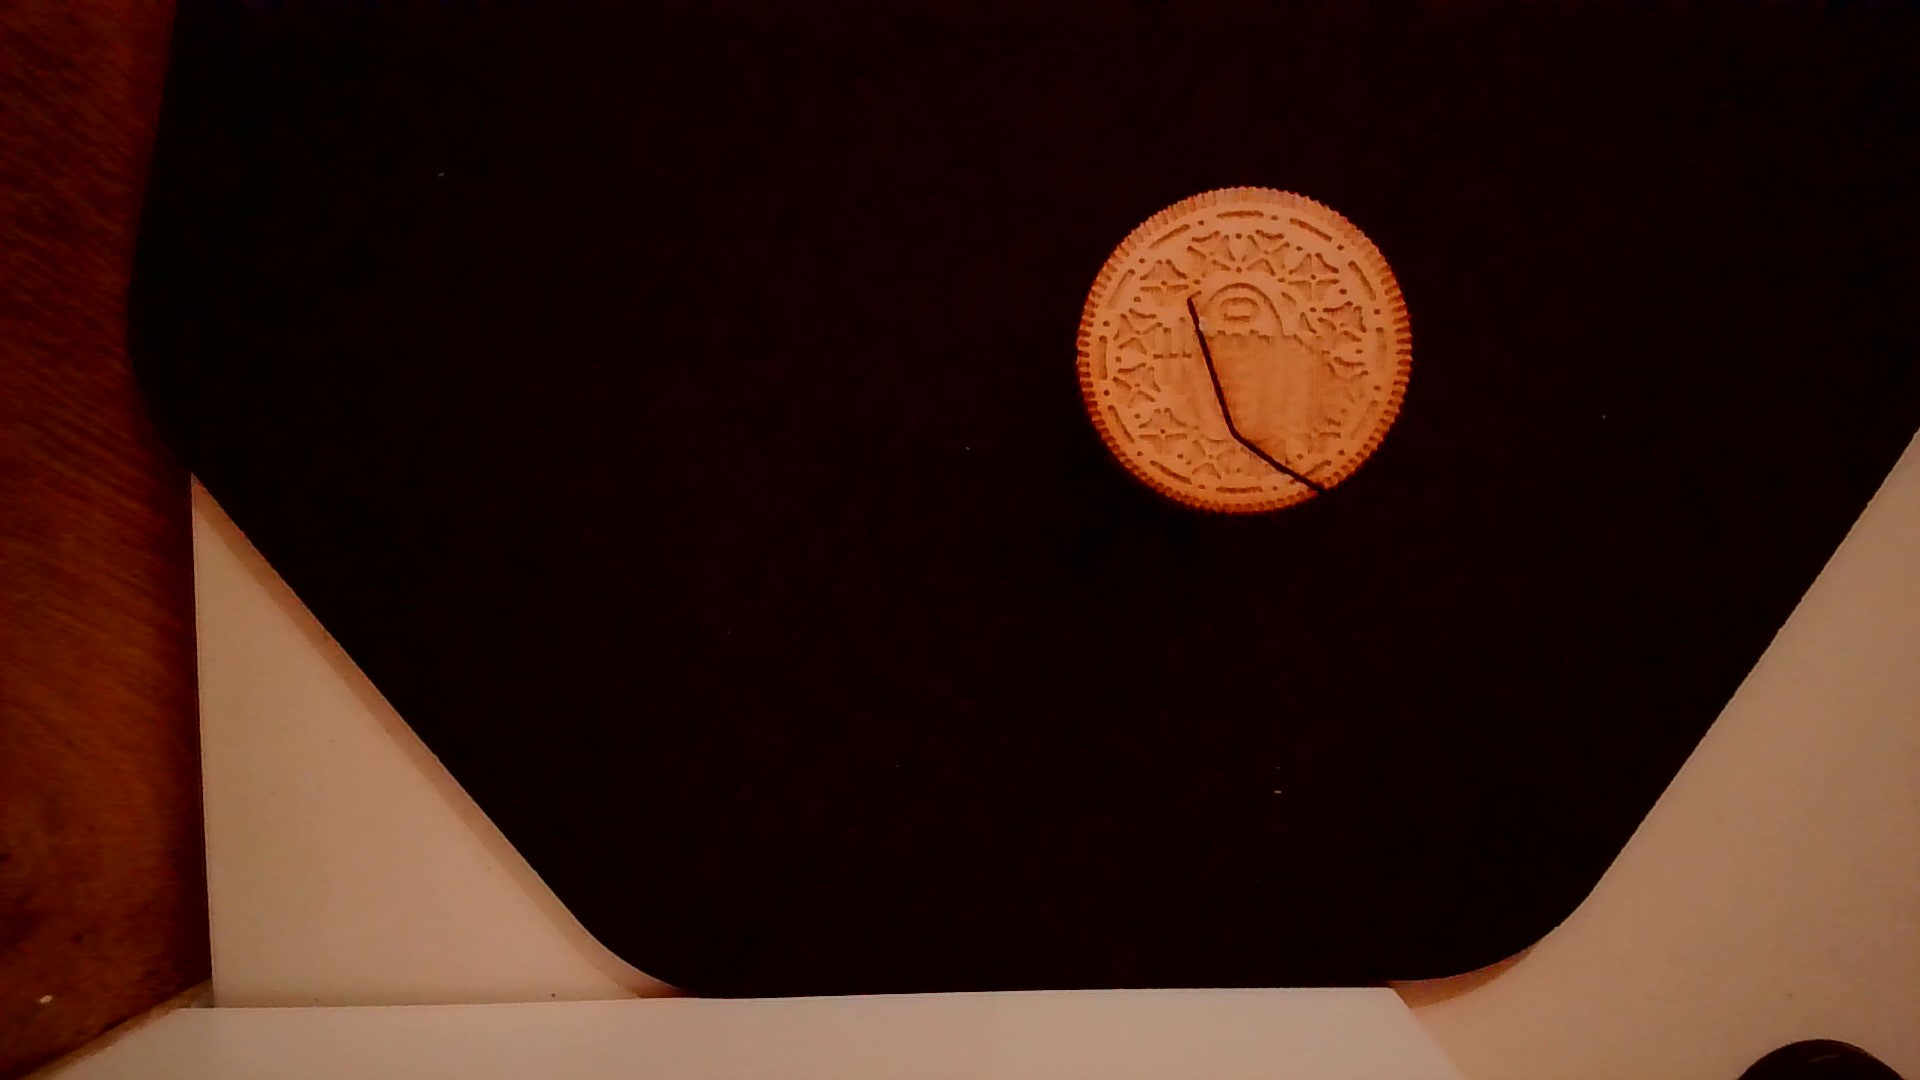Effacé: (1238, 335, 1332, 434)
Fissure: (1183, 301, 1332, 493)
Oréo: (1065, 175, 1418, 520)
